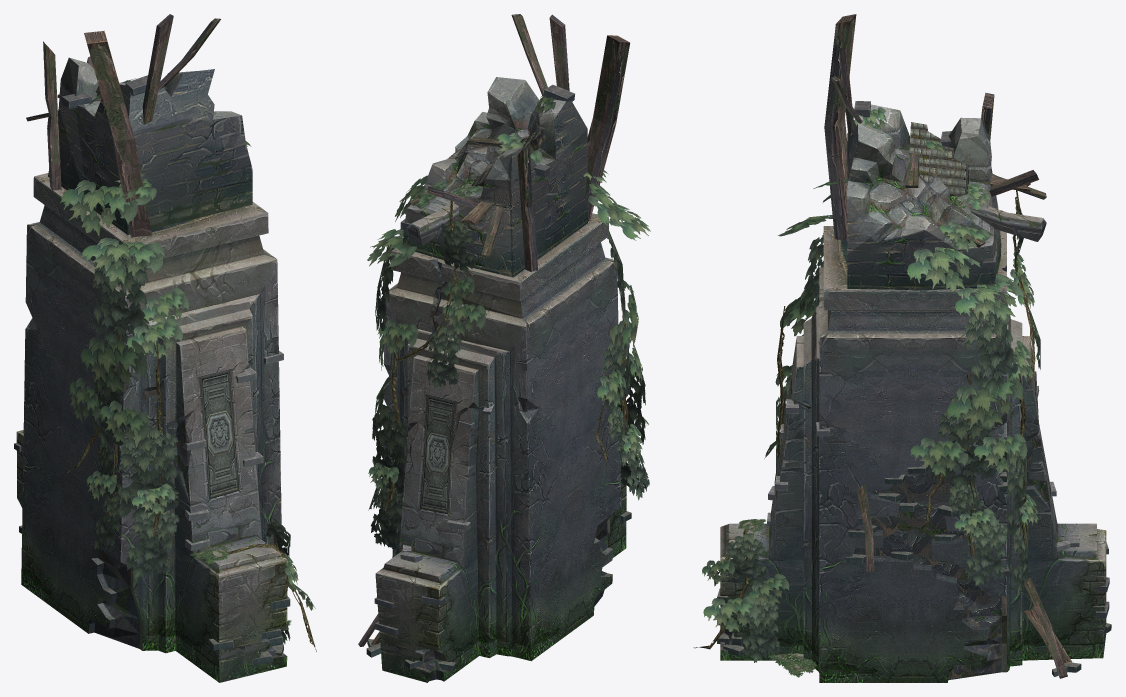
File: Item_5.FBX
3 views of the same model, side by side, from view 1: azimuth 30°, elevation 25°; view 2: azimuth 150°, elevation 25°; view 3: azimuth 270°, elevation 25° (orthographic). The views are drawn at different scales.
Visible parts, largest first — view 1: Ruins_5_A, Ruins_5_B; view 2: Ruins_5_A, Ruins_5_B; view 3: Ruins_5_A, Ruins_5_B.
Part boxes in pixels (x1,y1,x2,y2): Ruins_5_A: (14, 14, 290, 682); Ruins_5_B: (60, 78, 316, 651); Ruins_5_A: (358, 14, 631, 682); Ruins_5_B: (367, 96, 650, 549); Ruins_5_A: (717, 14, 1111, 682); Ruins_5_B: (693, 107, 1040, 677).
Size of the model in its own units: 357 by 844 by 545.
